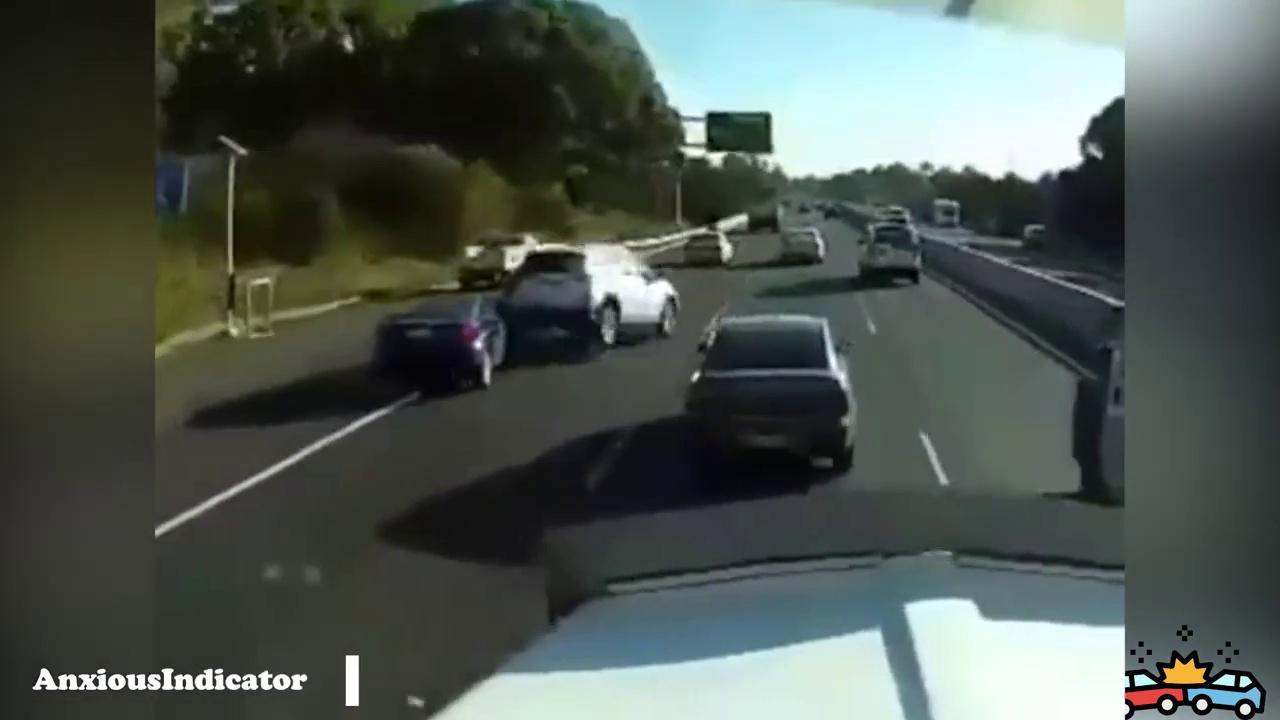car-accident: (365, 237, 682, 398)
